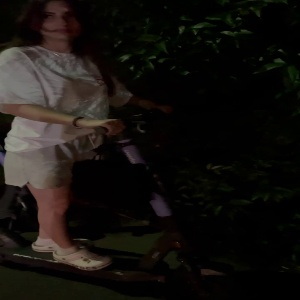human on a scooter: (1, 1, 231, 298)
